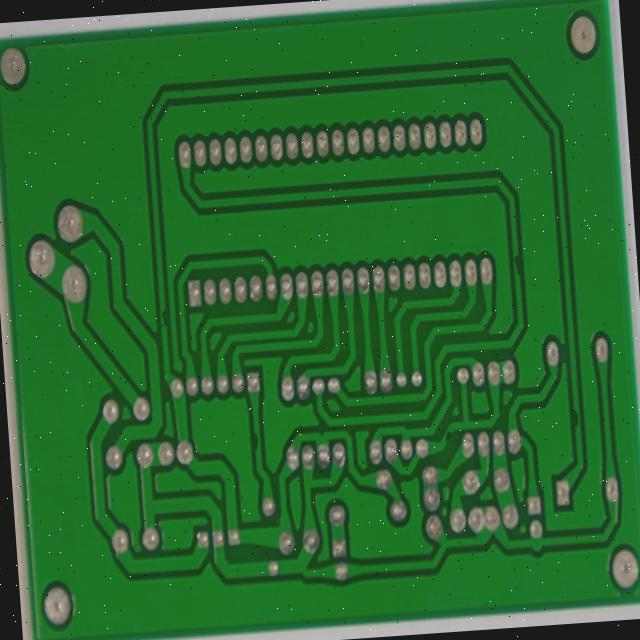mouse_bite: (523, 215, 538, 256), (156, 275, 173, 307), (254, 411, 269, 439), (585, 383, 597, 416), (452, 408, 469, 431)
